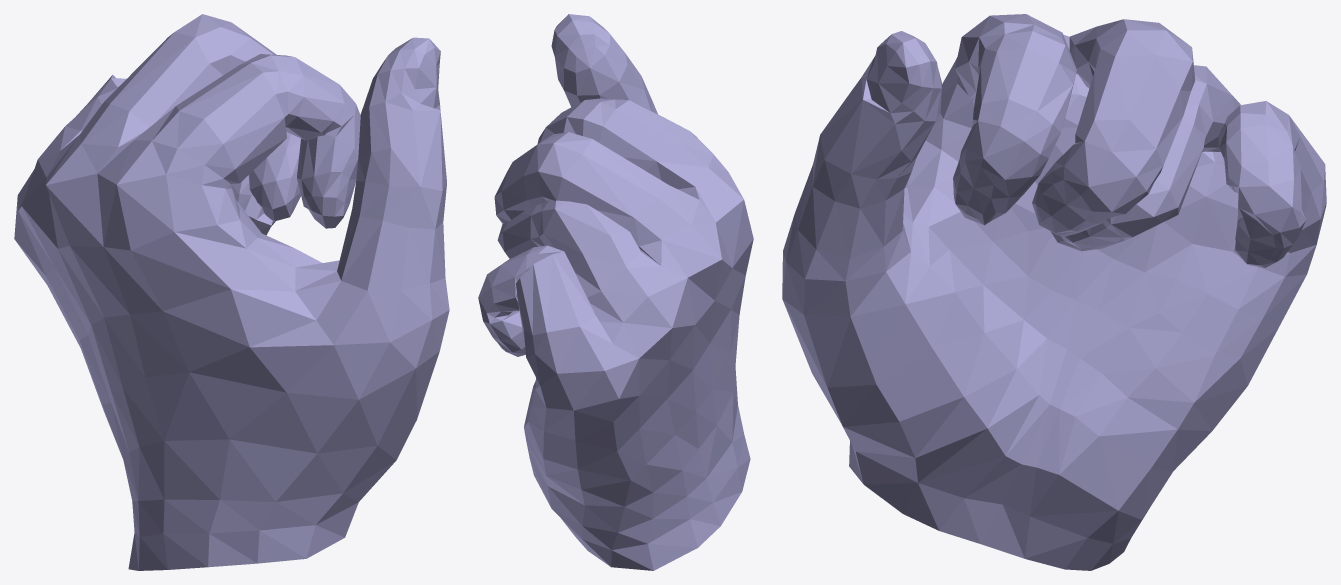
File: frame_0082_source_000082_hand.glb
The picture shows the model from 3 angles, left to right: view 1: azimuth 30°, elevation 25°; view 2: azimuth 150°, elevation 25°; view 3: azimuth 270°, elevation 25°; orthographic projection. The views are drawn at different scales.
Parts seen in each view (by area): view 1: world; view 2: world; view 3: world.
Part boxes in pixels (left/top/right/bottom): world: left=14, top=14, right=449, bottom=570; world: left=478, top=14, right=753, bottom=570; world: left=782, top=14, right=1326, bottom=570.
Size of the model in its own units: 0.0672 by 0.1187 by 0.0993.
